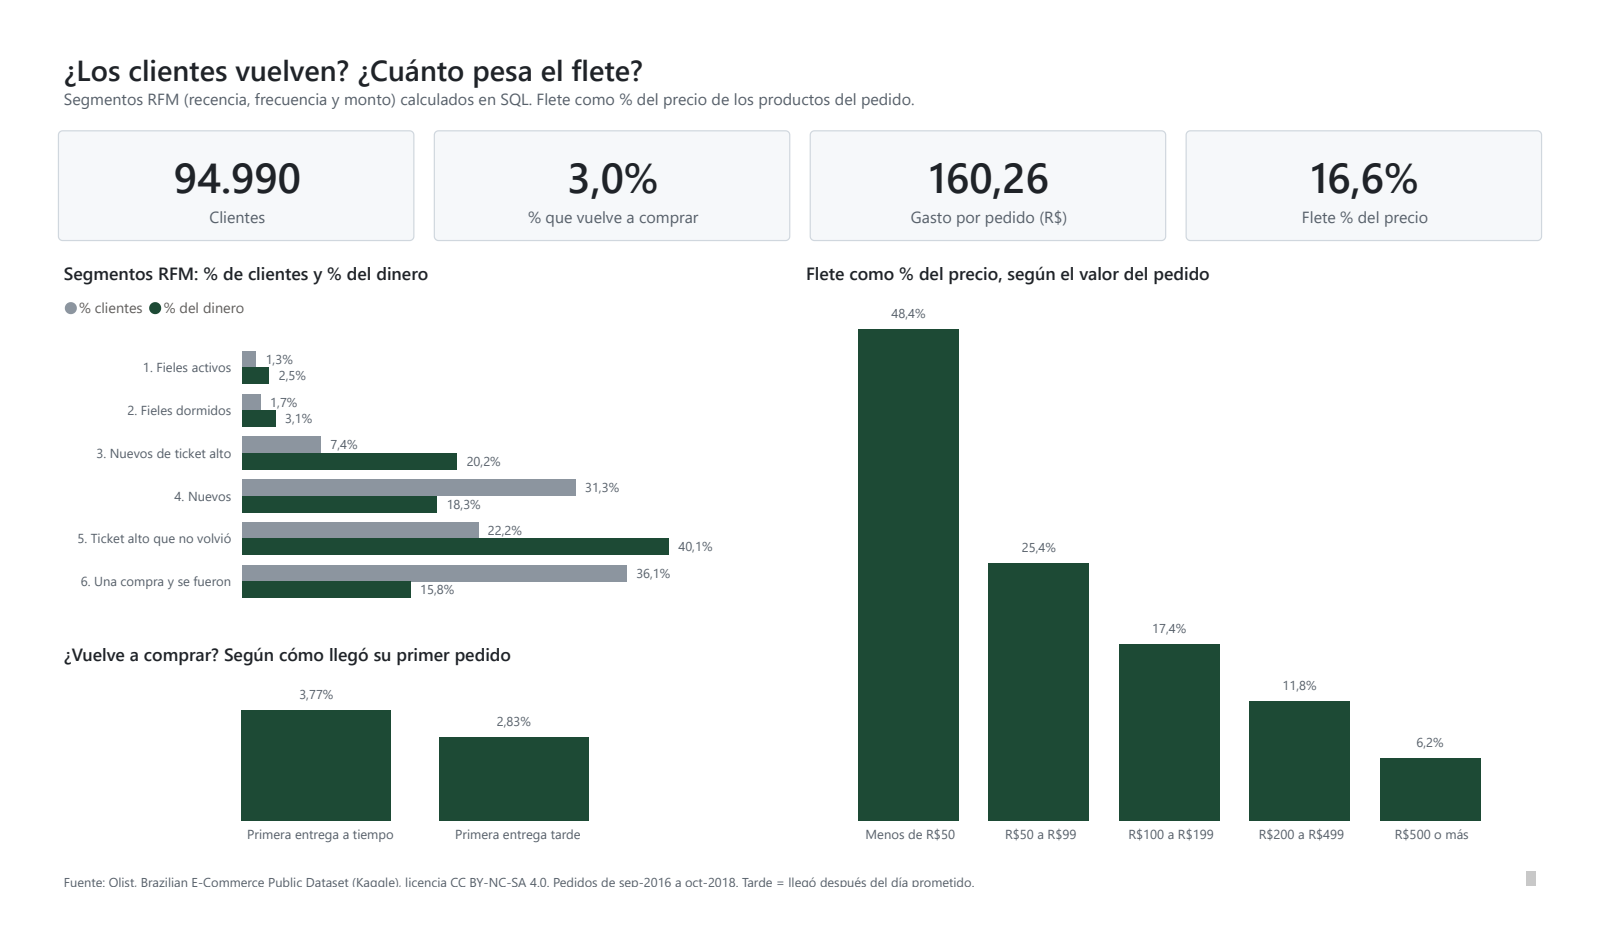

The dashboard page shown, as its layout file describes it:
{"tool":"powerbi","page":{"name":"Clientes","canvas":[1280,720],"ordinal":2},"visuals":[{"type":"textbox","box":[24,12,1232,64],"z":0},{"type":"textbox","box":[24,694,1232,22],"z":1000},{"type":"card","fields":{"Values":["Medidas.Clientes"]},"box":[24,84,296,92],"z":2000},{"type":"card","fields":{"Values":["Medidas.% que vuelve a comprar"]},"box":[336,84,296,92],"z":3000},{"type":"card","fields":{"Values":["Medidas.Gasto por pedido (R$)"]},"box":[648,84,296,92],"z":4000},{"type":"card","fields":{"Values":["Medidas.Flete % del precio"]},"box":[960,84,296,92],"z":5000},{"type":"clusteredBarChart","title":"Segmentos RFM: % de clientes y % del dinero","fields":{"Category":["RFM.segmento"],"Y":["Medidas.% clientes","Medidas.% del dinero"]},"box":[24,192,600,300],"z":6000},{"type":"clusteredColumnChart","title":"¿Vuelve a comprar? Según cómo llegó su primer pedido","fields":{"Category":["RecompraSQL.grupo"],"Y":["Medidas.% volvió a comprar"]},"box":[24,508,600,178],"z":7000},{"type":"clusteredColumnChart","title":"Flete como % del precio, según el valor del pedido","fields":{"Category":["Pedidos.rango_precio"],"Y":["Medidas.Flete % del precio"]},"box":[640,192,616,494],"z":8000}]}

Visuals, with their boxes in screenshot pixels (x1, y1, x2, y2), scaled from the page's 1280x720 canvas onto the 1600x926 screenshot:
textbox: region(30, 15, 1570, 98)
textbox: region(30, 893, 1570, 921)
card - Medidas.Clientes: region(30, 108, 400, 226)
card - Medidas.% que vuelve a comprar: region(420, 108, 790, 226)
card - Medidas.Gasto por pedido (R$): region(810, 108, 1180, 226)
card - Medidas.Flete % del precio: region(1200, 108, 1570, 226)
"Segmentos RFM: % de clientes y % del dinero" clusteredBarChart: region(30, 247, 780, 633)
"¿Vuelve a comprar? Según cómo llegó su primer pedido" clusteredColumnChart: region(30, 653, 780, 882)
"Flete como % del precio, según el valor del pedido" clusteredColumnChart: region(800, 247, 1570, 882)
